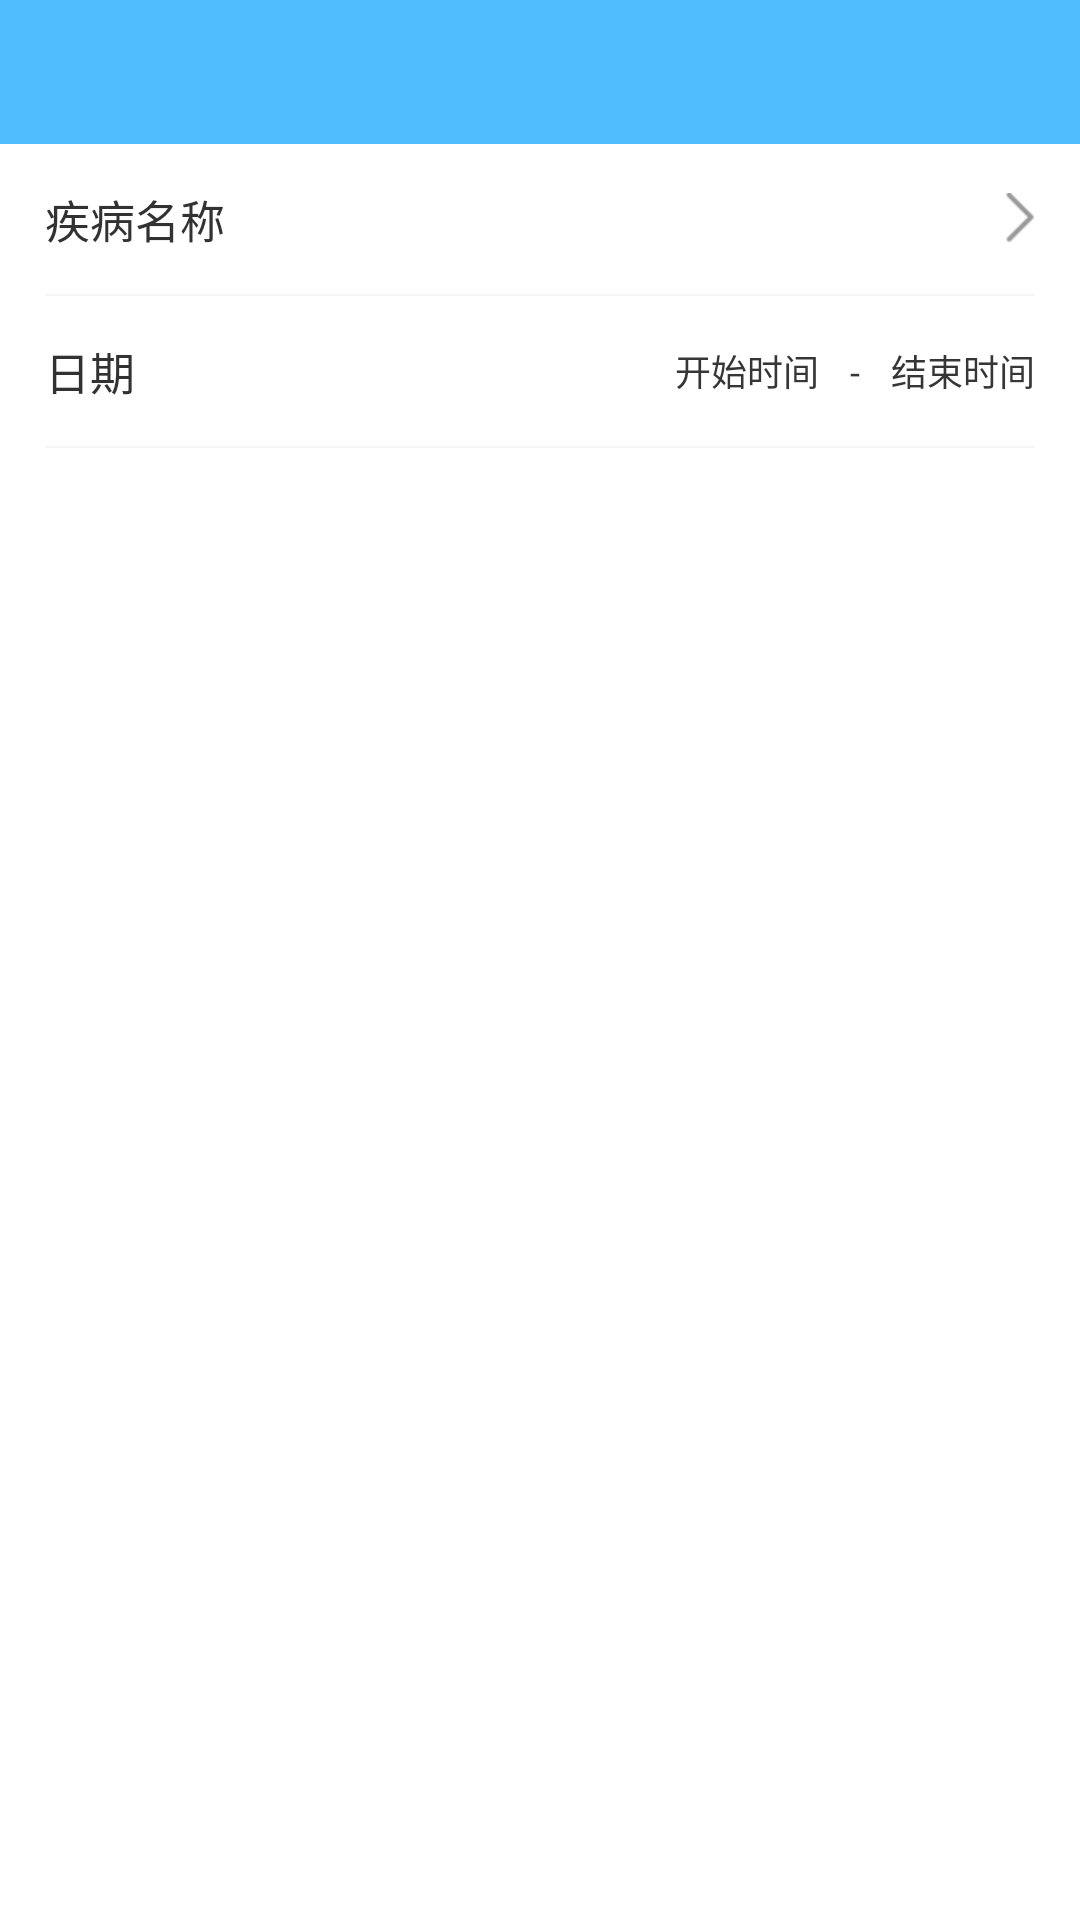

Named icons in this screenshot (1080w x 1920h) and their bounding boxes, [left=x1, top=y1, right=x2, bottom=y2]:
right: [left=1006, top=193, right=1034, bottom=242]
